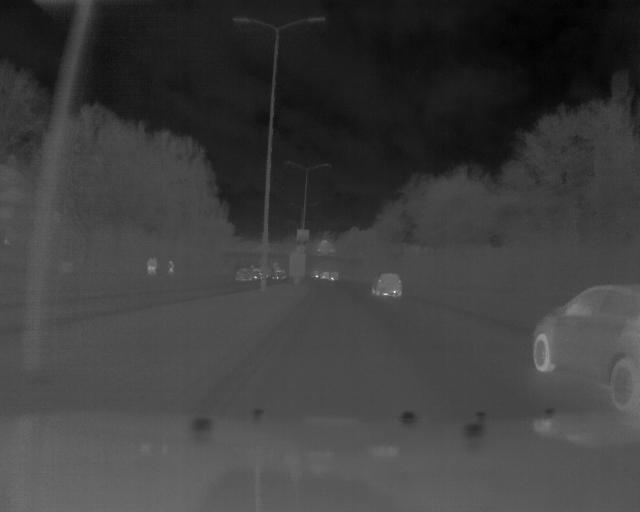car: (526, 284, 640, 412), (372, 270, 402, 298), (231, 264, 256, 286)
